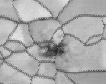good_void: (39, 39, 65, 58)
